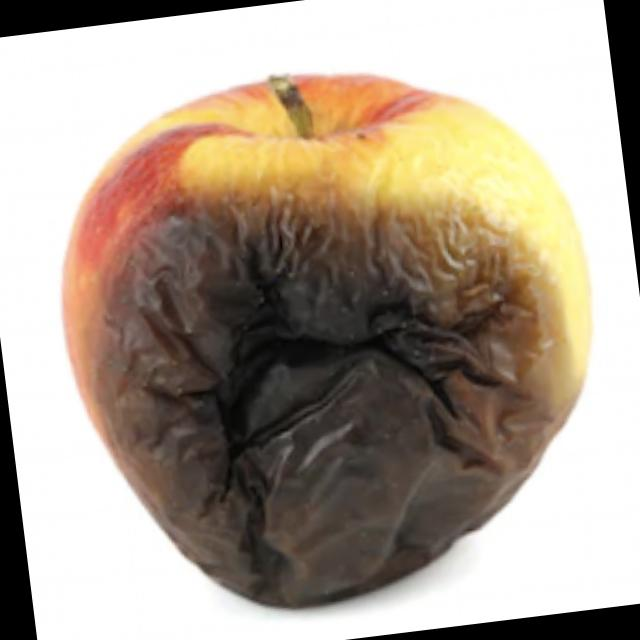rotten_apple: (35, 25, 630, 634)
